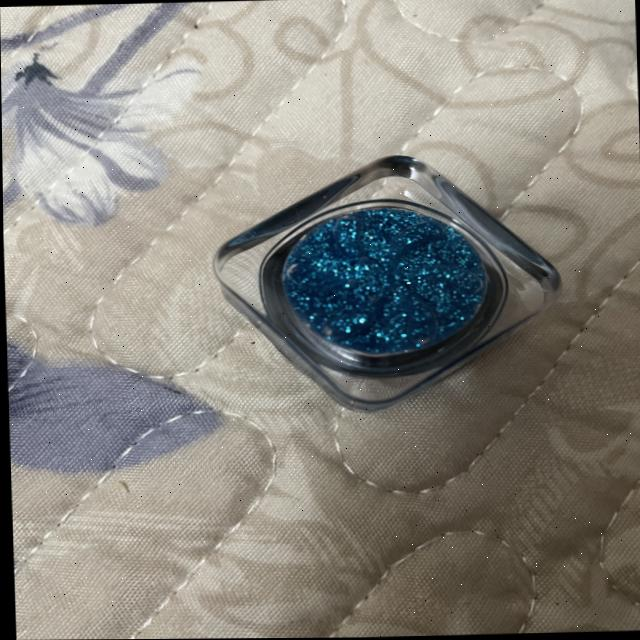eye shade: (184, 134, 574, 421)
